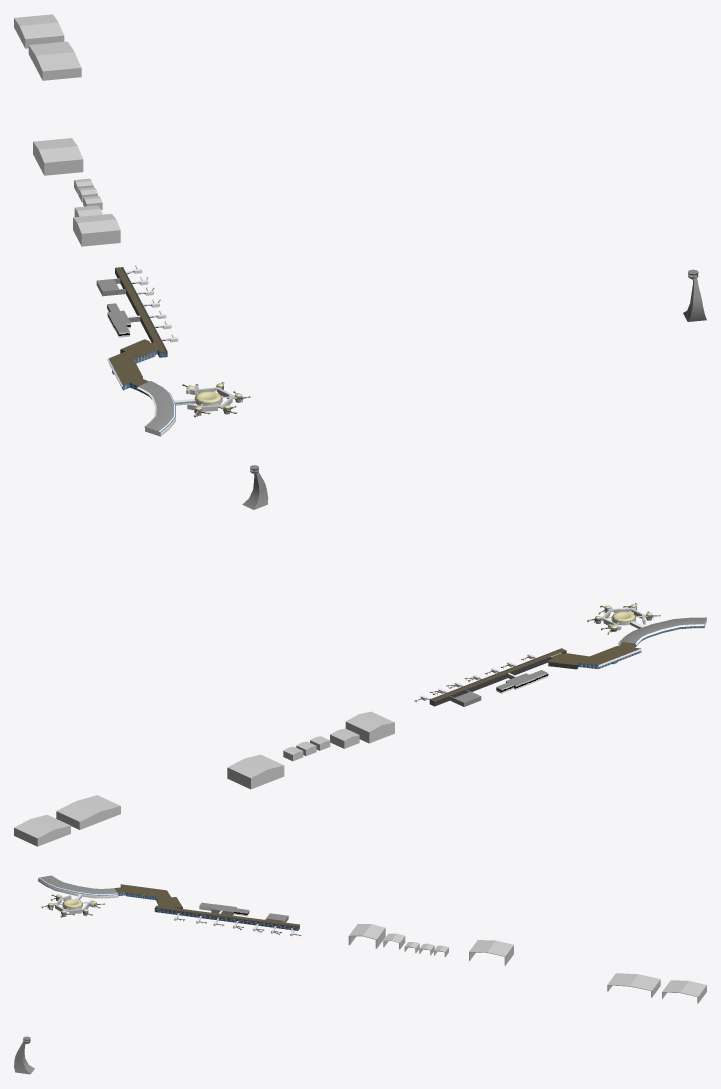
The model's file is auh_8.glb.
The picture shows the model from 3 angles, top to bottom: view 1: azimuth 30°, elevation 25°; view 2: azimuth 150°, elevation 25°; view 3: azimuth 270°, elevation 25°; orthographic projection. The views are drawn at different scales.
Parts seen in each view (by area): view 1: Cube.016, Cube.001; view 2: Cube.016, Cube.001; view 3: Cube.016, Cube.001, Cube.014, Cube.017.
Boxes of the visible parts, left/top/right/bottom form: Cube.016: left=14, top=14, right=120, bottom=246; Cube.001: left=107, top=267, right=195, bottom=436; Cube.016: left=14, top=711, right=394, bottom=846; Cube.001: left=429, top=617, right=706, bottom=706; Cube.016: left=348, top=924, right=706, bottom=1003; Cube.001: left=38, top=875, right=299, bottom=927; Cube.014: left=154, top=908, right=299, bottom=930; Cube.017: left=14, top=1040, right=34, bottom=1074.
Size of the model in its own units: 1408 by 112 by 2120.
8 materials, 3 textured.
